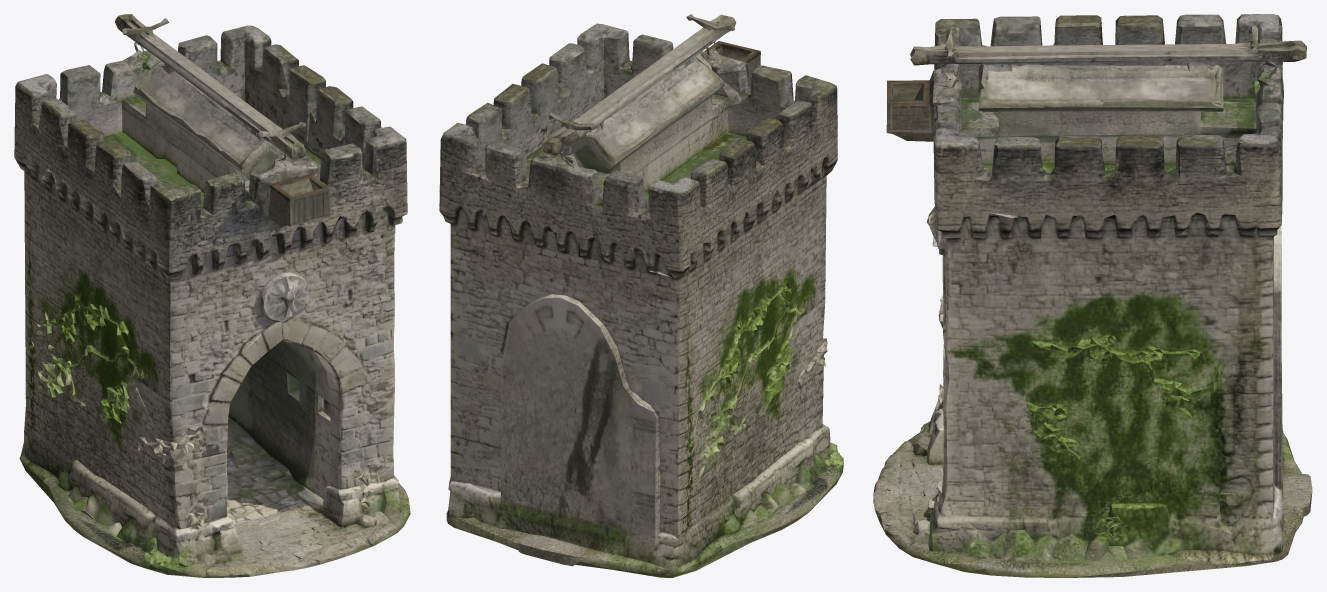
File: fort_m_ruins_gate.glb
3 views of the same model, side by side, from view 1: azimuth 30°, elevation 25°; view 2: azimuth 150°, elevation 25°; view 3: azimuth 270°, elevation 25° (orthographic). The views are drawn at different scales.
Visible parts, largest first — view 1: fort_m_ruins_gate; view 2: fort_m_ruins_gate; view 3: fort_m_ruins_gate.
Part boxes in pixels (x1,y1,x2,y2): fort_m_ruins_gate: (14,14,410,577); fort_m_ruins_gate: (439,14,843,577); fort_m_ruins_gate: (873,14,1312,577).
Bounding box in the file's own units: 1.4 × 1.9 × 1.63.
Materials: 1 (1 with a texture image).
